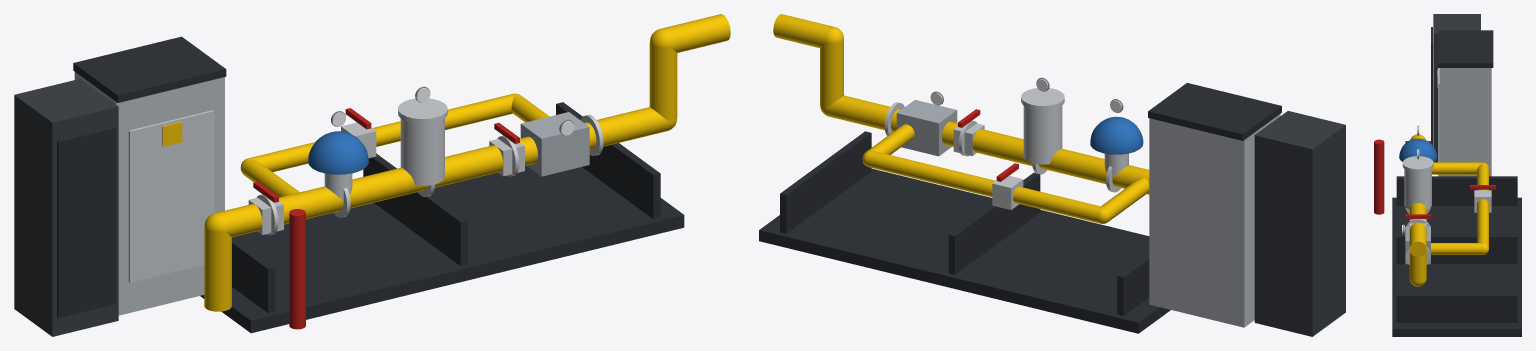
File: Fuel line.glb
3 views of the same model, side by side, from view 1: azimuth 30°, elevation 25°; view 2: azimuth 150°, elevation 25°; view 3: azimuth 270°, elevation 25° (orthographic). The views are drawn at different scales.
Visible parts, largest first — view 1: Asset; view 2: Asset; view 3: Asset.
Part boxes in pixels (x1,y1,x2,y2): Asset: (14,14,730,336); Asset: (759,14,1345,336); Asset: (1374,14,1521,336).
Bounding box in the file's own units: 5.48 × 1.86 × 1.71.
